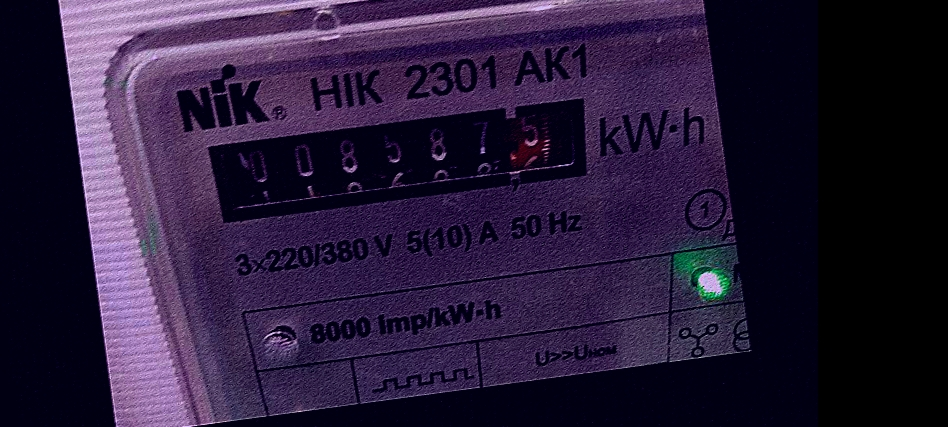0: (288, 137, 318, 179)
1: (243, 143, 272, 187)
5: (515, 107, 545, 150), (379, 126, 407, 166)
7: (467, 115, 495, 158)
8: (332, 133, 363, 177), (423, 121, 450, 164)
screen: (185, 73, 615, 246)
